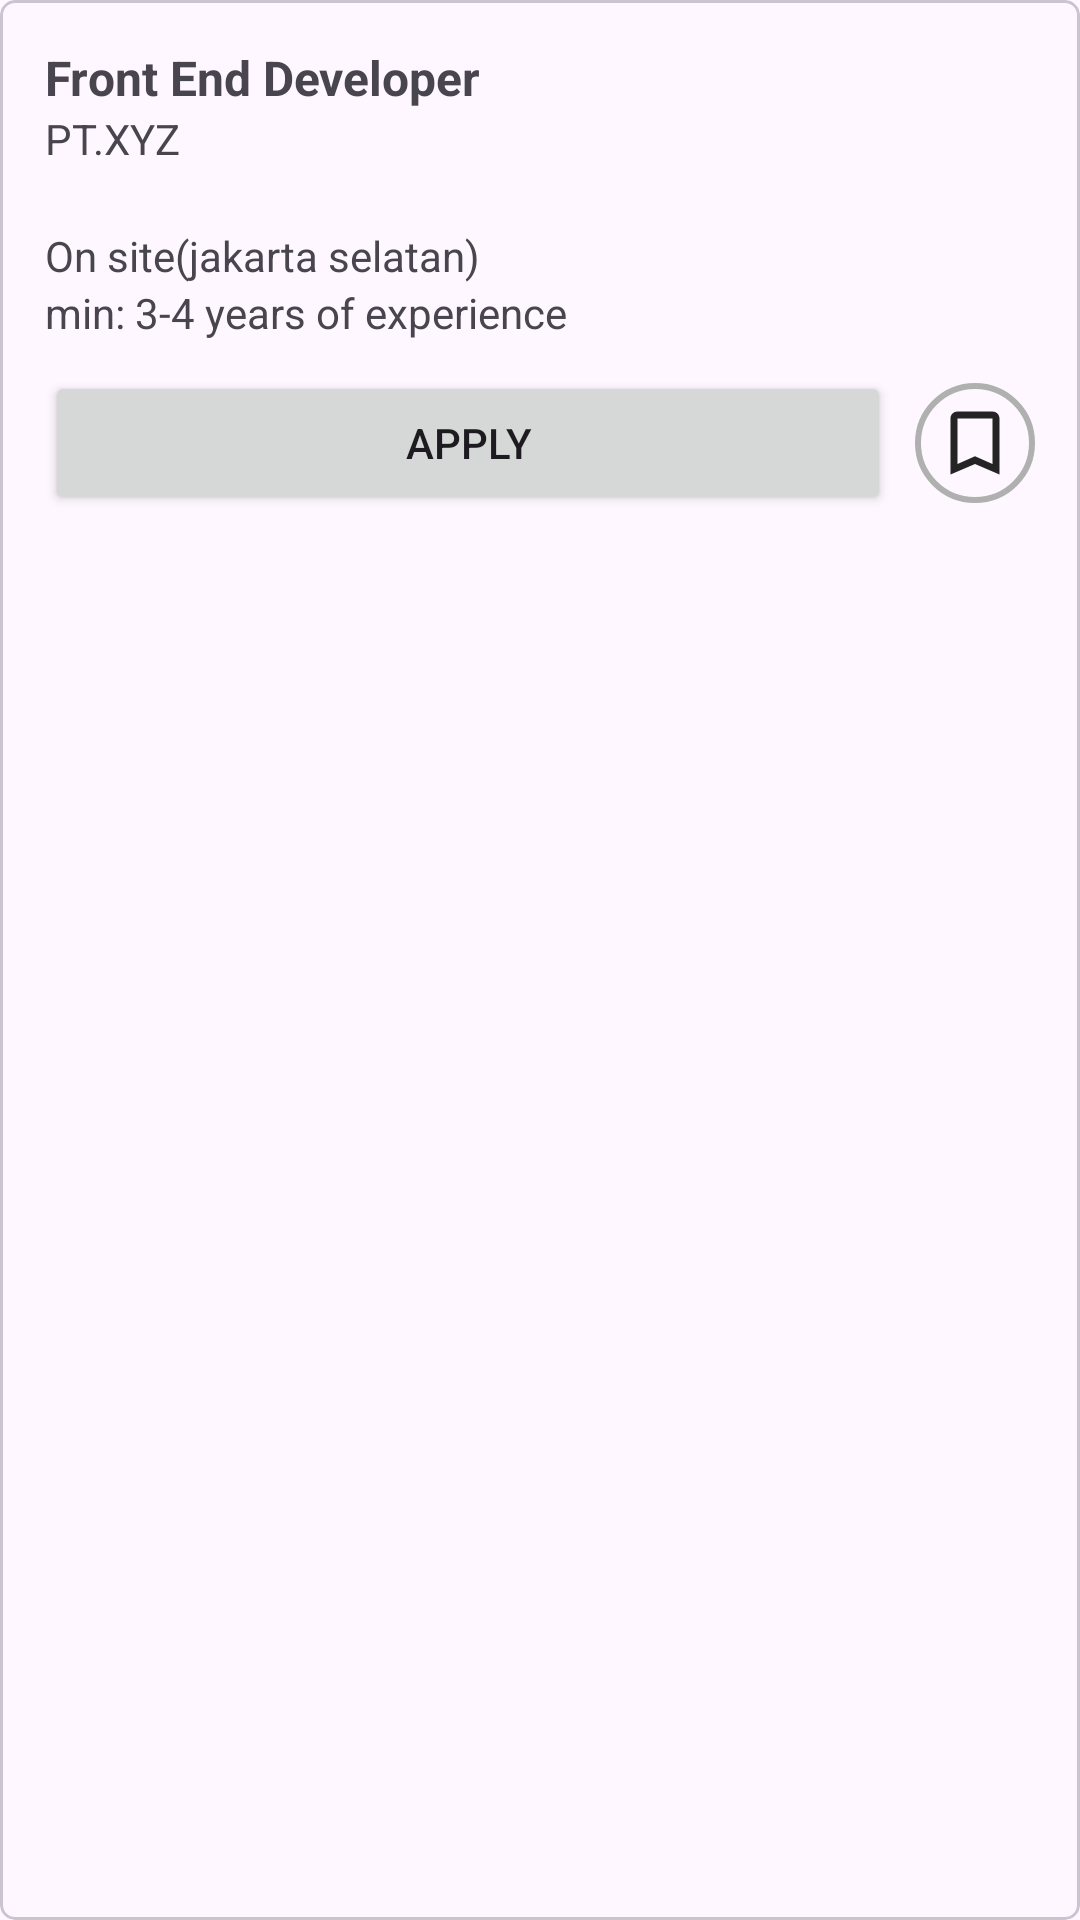

Screen size 1080 × 1920. Icon name, then its center in pixels as (x,y):
Bookmark: (975,443)
